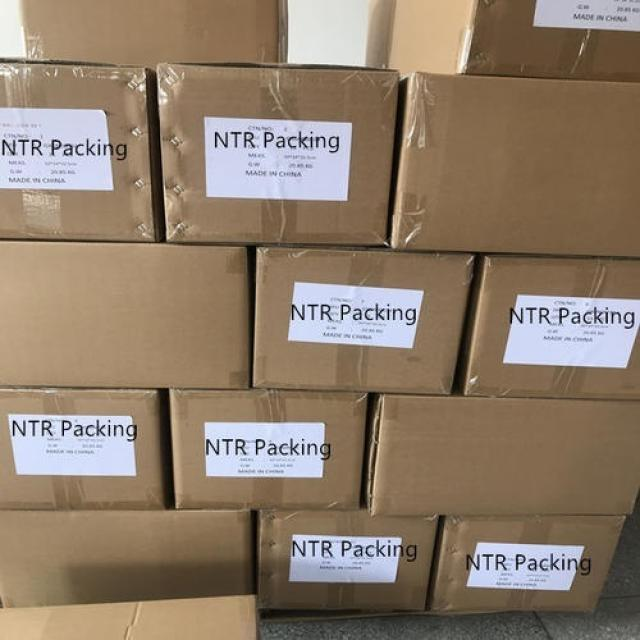box: (389, 70, 640, 257), (155, 63, 401, 247), (0, 241, 251, 389), (252, 248, 477, 396), (366, 397, 639, 517), (0, 58, 165, 242), (454, 253, 640, 397), (0, 509, 251, 608), (170, 390, 369, 512), (18, 0, 291, 74), (0, 388, 165, 509), (430, 515, 626, 613), (259, 511, 438, 611), (458, 0, 640, 81), (0, 593, 260, 640), (365, 0, 476, 81)
